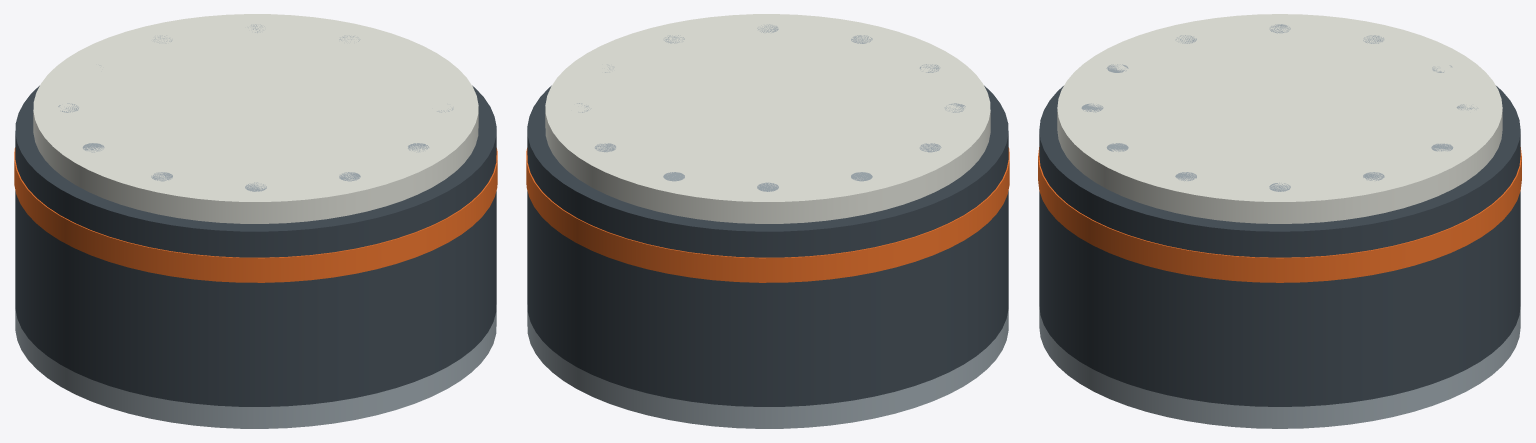
Rendered from parachute.glb.
3 renders of one model, left to right at view 1: azimuth 30°, elevation 25°; view 2: azimuth 150°, elevation 25°; view 3: azimuth 270°, elevation 25°, orthographic.
Parts seen in each view (by area): view 1: Pressure sealed recovery pack, Top release cap, Safety band, Attachment rim; view 2: Pressure sealed recovery pack, Top release cap, Safety band, Attachment rim; view 3: Pressure sealed recovery pack, Top release cap, Safety band, Attachment rim.
Boxes of the visible parts, x1,y1,x2,y2 form: Pressure sealed recovery pack: (15, 85, 496, 406); Top release cap: (33, 14, 478, 223); Safety band: (14, 147, 497, 282); Attachment rim: (15, 305, 496, 428); Pressure sealed recovery pack: (527, 85, 1008, 406); Top release cap: (545, 14, 990, 223); Safety band: (526, 147, 1009, 282); Attachment rim: (527, 305, 1008, 428); Pressure sealed recovery pack: (1039, 86, 1520, 406); Top release cap: (1057, 14, 1502, 223); Safety band: (1038, 147, 1521, 282); Attachment rim: (1039, 307, 1520, 428).
Size of the model in its own units: 0.8 by 0.4 by 0.8.
